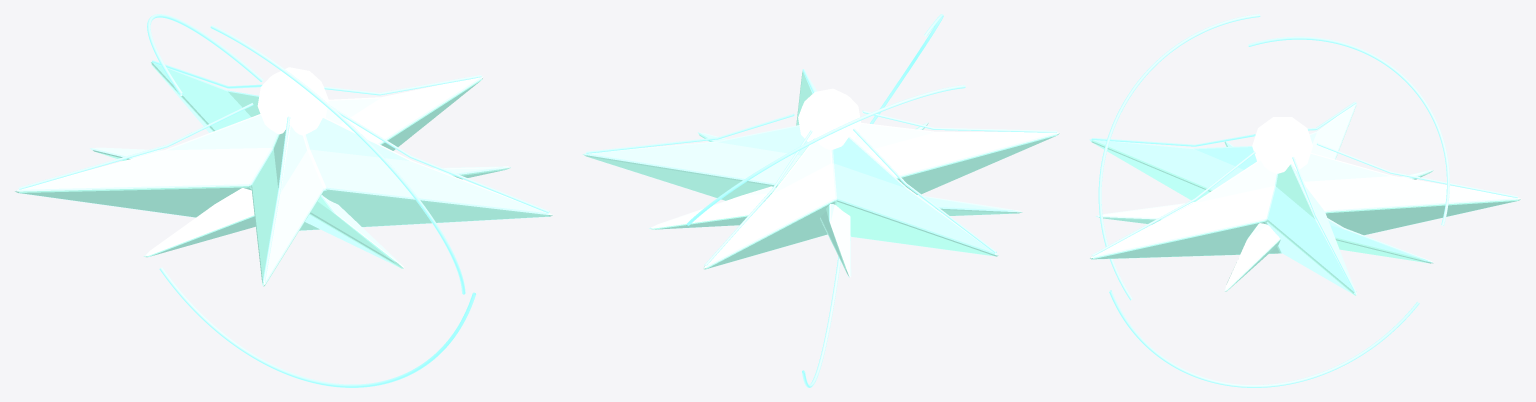
Rendered from aurora.glb.
The picture shows the model from 3 angles, left to right: view 1: azimuth 30°, elevation 25°; view 2: azimuth 150°, elevation 25°; view 3: azimuth 270°, elevation 25°; orthographic projection. The views are drawn at different scales.
Parts seen in each view (by area): view 1: aurora primary, aurora undercrown, aurora radiant core, aurora orbit.002 export, aurora orbit.001 export, aurora orbit export, aurora filament.001 export, aurora filament.003 export, aurora filament.002 export, aurora filament.004 export; view 2: aurora primary, aurora undercrown, aurora radiant core, aurora orbit export, aurora filament.004 export, aurora orbit.002 export, aurora filament.002 export, aurora filament.001 export, aurora orbit.001 export, aurora filament export; view 3: aurora primary, aurora undercrown, aurora radiant core, aurora orbit.002 export, aurora orbit.001 export, aurora orbit export, aurora filament export, aurora filament.003 export, aurora filament.002 export, aurora filament.004 export.
Part boxes in pixels (left/top/right/bottom): aurora primary: left=14, top=62, right=552, bottom=286; aurora undercrown: left=90, top=147, right=511, bottom=268; aurora radiant core: left=257, top=67, right=328, bottom=135; aurora orbit.002 export: left=159, top=267, right=475, bottom=387; aurora orbit.001 export: left=210, top=25, right=465, bottom=294; aurora orbit export: left=147, top=14, right=263, bottom=95; aurora filament.001 export: left=18, top=103, right=253, bottom=189; aurora filament.003 export: left=332, top=107, right=549, bottom=213; aurora filament.002 export: left=262, top=116, right=290, bottom=282; aurora filament.004 export: left=324, top=75, right=481, bottom=95; aurora primary: left=582, top=71, right=1059, bottom=269; aurora undercrown: left=649, top=122, right=1022, bottom=277; aurora radiant core: left=798, top=88, right=860, bottom=150; aurora orbit export: left=687, top=85, right=965, bottom=225; aurora filament.004 export: left=586, top=113, right=794, bottom=153; aurora orbit.002 export: left=802, top=256, right=840, bottom=387; aurora filament.002 export: left=862, top=110, right=1057, bottom=132; aurora filament.001 export: left=853, top=128, right=996, bottom=252; aurora orbit.001 export: left=870, top=14, right=943, bottom=123; aurora filament export: left=704, top=130, right=812, bottom=265; aurora primary: left=1089, top=103, right=1521, bottom=295; aurora undercrown: left=1095, top=141, right=1433, bottom=291; aurora radiant core: left=1252, top=117, right=1312, bottom=173; aurora orbit.002 export: left=1109, top=290, right=1419, bottom=387; aurora orbit.001 export: left=1098, top=14, right=1260, bottom=300; aurora orbit export: left=1248, top=36, right=1449, bottom=225; aurora filament export: left=1316, top=143, right=1517, bottom=197; aurora filament.003 export: left=1091, top=151, right=1255, bottom=256; aurora filament.002 export: left=1091, top=134, right=1255, bottom=146; aurora filament.004 export: left=1292, top=157, right=1356, bottom=291.
Size of the model in its own units: 3.58 by 2.85 by 3.4.
